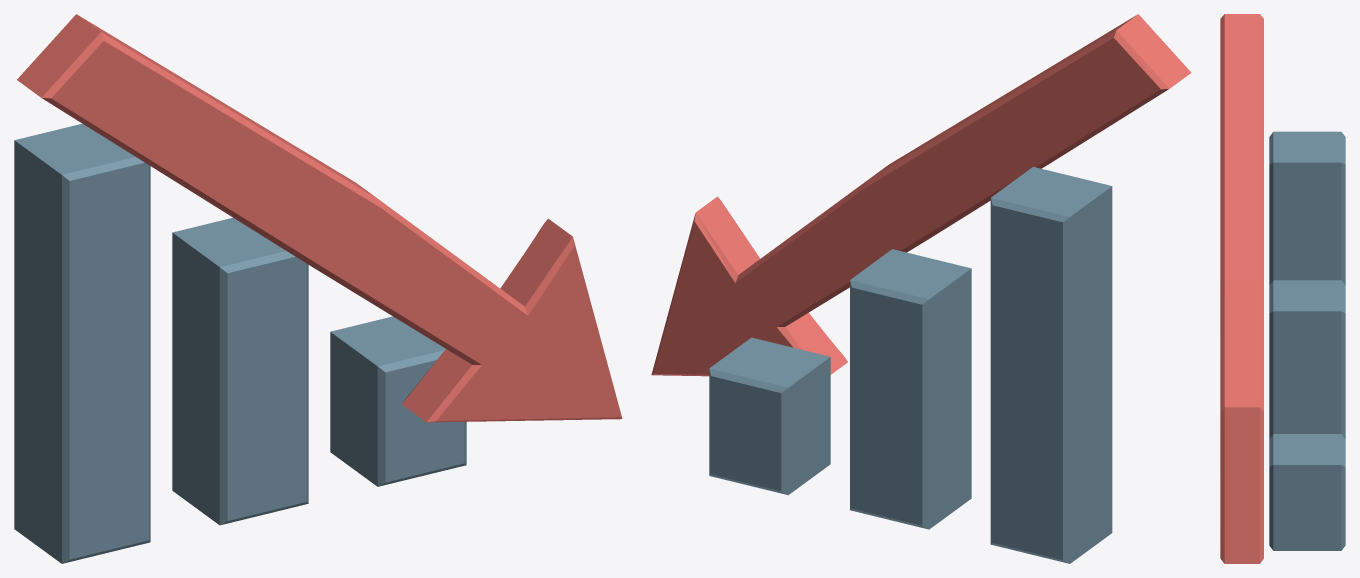
The model's file is chart-down.glb.
3 renders of one model, left to right at view 1: azimuth 30°, elevation 25°; view 2: azimuth 150°, elevation 25°; view 3: azimuth 270°, elevation 25°, orthographic. The views are drawn at different scales.
Parts seen in each view (by area): view 1: Falling_chart_original; view 2: Falling_chart_original; view 3: Falling_chart_original.
Boxes of the visible parts, x1,y1,x2,y2 form: Falling_chart_original: (14,14,622,563); Falling_chart_original: (651,14,1191,563); Falling_chart_original: (1220,14,1345,563).
Bounding box in the file's own units: 1.77 × 1.61 × 0.46.
